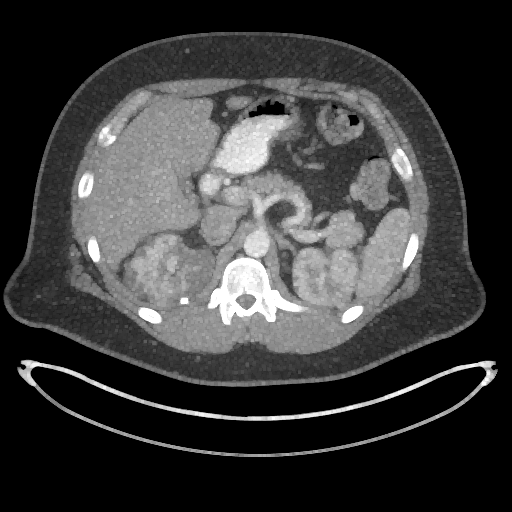Lesion: (140, 272, 182, 310)
